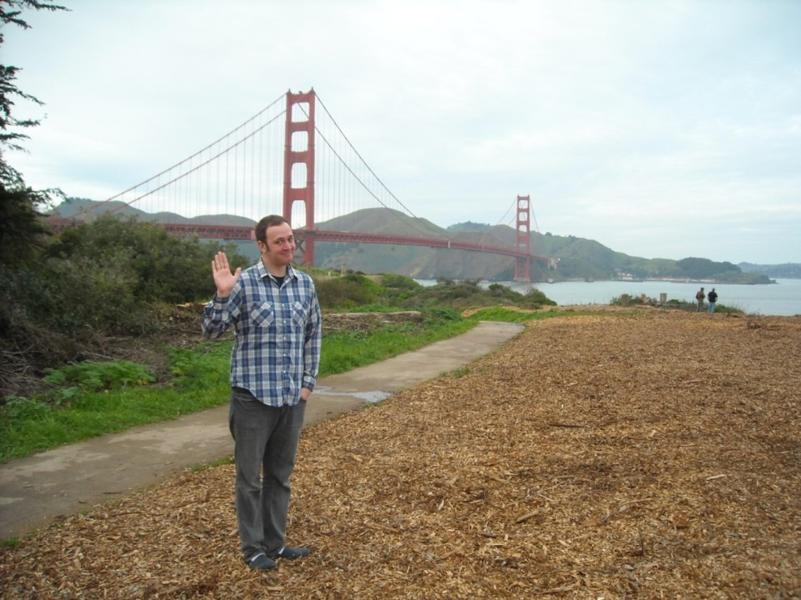person: (198, 214, 321, 572)
